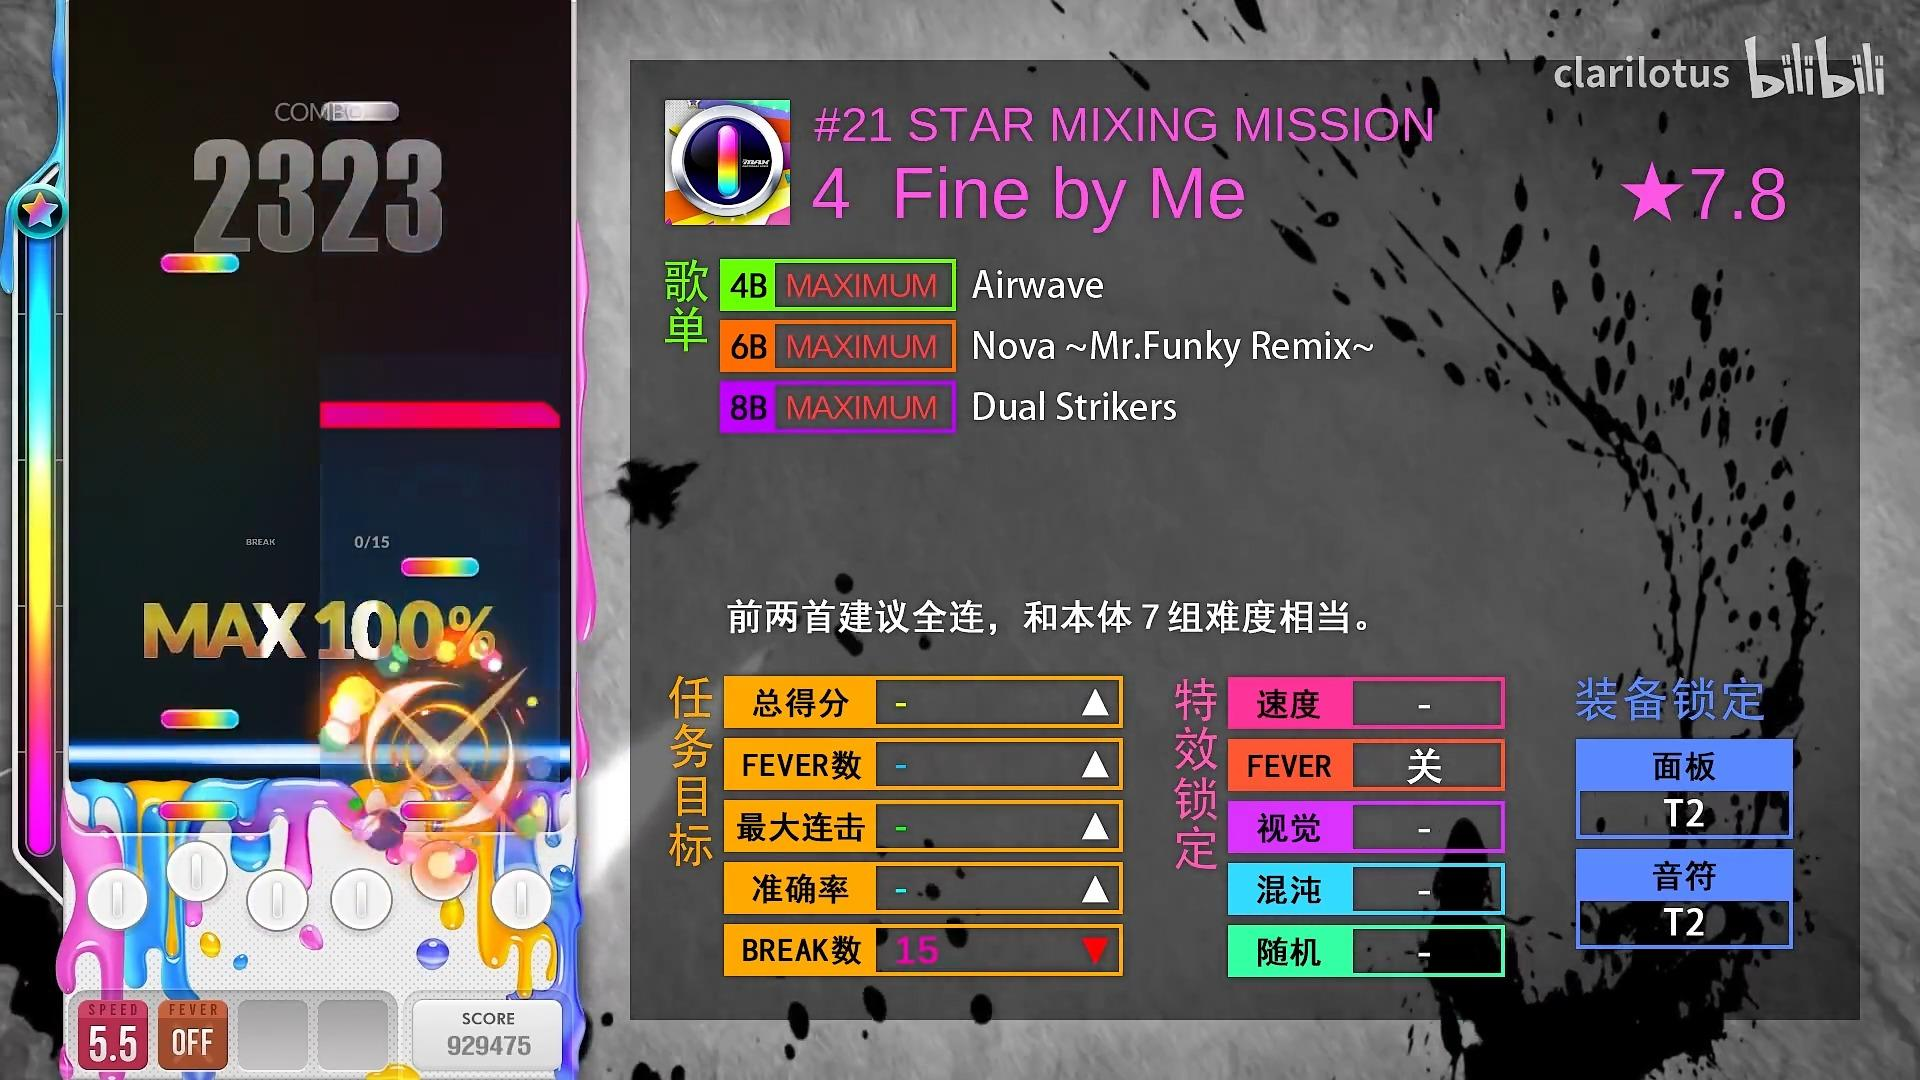note: (160, 708, 240, 731), (160, 253, 240, 274), (400, 558, 480, 578), (322, 102, 400, 121)
xnote: (320, 401, 560, 427)
